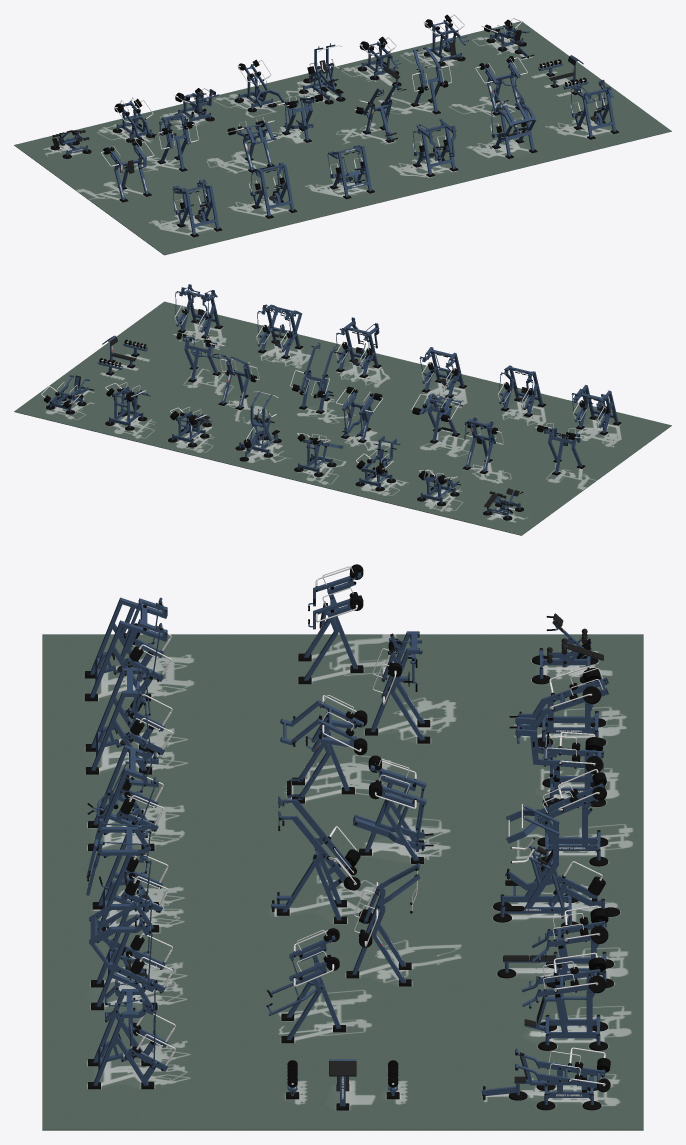
The model's file is large.glb.
3 renders of one model, top to bottom at view 1: azimuth 30°, elevation 25°; view 2: azimuth 150°, elevation 25°; view 3: azimuth 270°, elevation 25°, orthographic. The views are drawn at different scales.
Visible parts, largest first — view 1: Floor.001, Shadow, Element_2.015, Element_2.053, Element_2.039, Element_2.113, Element_2.024, Element_2.119, Blue metal.002, blue_metal.021, blue_metal.012, Corpus (+6 smaller); view 2: Floor.001, Shadow, Element_2.015, Element_2.053, Element_2.024, Element_2.119, Blue metal.002, Element_2.039, Element_2.113, blue_metal.021, Corpus, blue_metal.012 (+11 smaller); view 3: Floor.001, Shadow, Element_2.015, Blue metal.002, Element_2.053, Element_2.113, Element_2.039, accent.035, Element_2.024, Corpus, Element_2.119, accent.017 (+26 smaller).
Boxes of the visible parts, box(x1,y1,x2,y2) form: Floor.001: box(14, 21, 671, 255); Shadow: box(43, 36, 612, 236); Element_2.015: box(174, 183, 219, 234); Element_2.053: box(495, 101, 536, 156); Element_2.039: box(253, 162, 294, 216); Element_2.113: box(575, 84, 616, 137); Element_2.024: box(416, 122, 455, 174); Element_2.119: box(332, 146, 371, 196); Blue metal.002: box(303, 43, 341, 101); blue_metal.021: box(160, 113, 187, 169); blue_metal.012: box(110, 145, 148, 199); Corpus: box(427, 23, 461, 63); Floor.001: box(14, 301, 671, 535); Shadow: box(45, 323, 621, 522); Element_2.015: box(573, 385, 618, 432); Element_2.053: box(261, 304, 302, 356); Element_2.024: box(339, 322, 378, 375); Element_2.119: box(424, 347, 464, 396); Blue metal.002: box(239, 391, 277, 454); Element_2.039: box(502, 365, 543, 414); Element_2.113: box(179, 287, 220, 336); blue_metal.021: box(465, 419, 493, 471); Corpus: box(109, 394, 143, 427); blue_metal.012: box(544, 429, 582, 473); Floor.001: box(42, 634, 643, 1130); Shadow: box(84, 634, 632, 1110); Element_2.015: box(90, 597, 167, 697); Blue metal.002: box(500, 805, 571, 925); Element_2.053: box(89, 899, 151, 1006); Element_2.113: box(93, 985, 154, 1085); Element_2.039: box(91, 668, 152, 770); accent.035: box(353, 765, 426, 852); Element_2.024: box(97, 826, 153, 928); Corpus: box(525, 973, 600, 1045); Element_2.119: box(93, 745, 147, 847); accent.017: box(98, 894, 166, 992).
Size of what is drawn, in the model's own units: 24.26 by 2.5 by 12.44.
161 materials, 31 textured.
